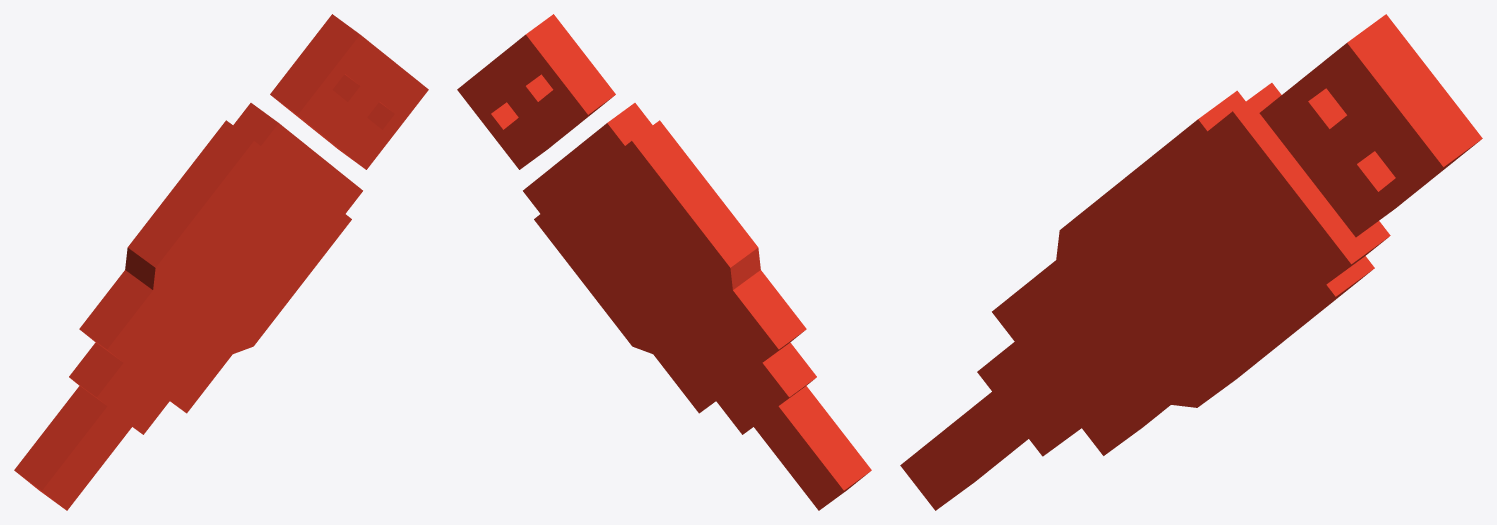
The model's file is Icon_FlashDrive_01.fbx.
3 renders of one model, left to right at view 1: azimuth 30°, elevation 25°; view 2: azimuth 150°, elevation 25°; view 3: azimuth 330°, elevation 25°, orthographic. The views are drawn at different scales.
Visible parts, largest first — view 1: Icon_FlashDrive_01; view 2: Icon_FlashDrive_01; view 3: Icon_FlashDrive_01.
Part boxes in pixels (<box>): Icon_FlashDrive_01: <box>14,14,428,510</box>; Icon_FlashDrive_01: <box>457,14,871,510</box>; Icon_FlashDrive_01: <box>900,14,1482,510</box>.
Size of the model in its own units: 73.02 by 73.02 by 9.14.
